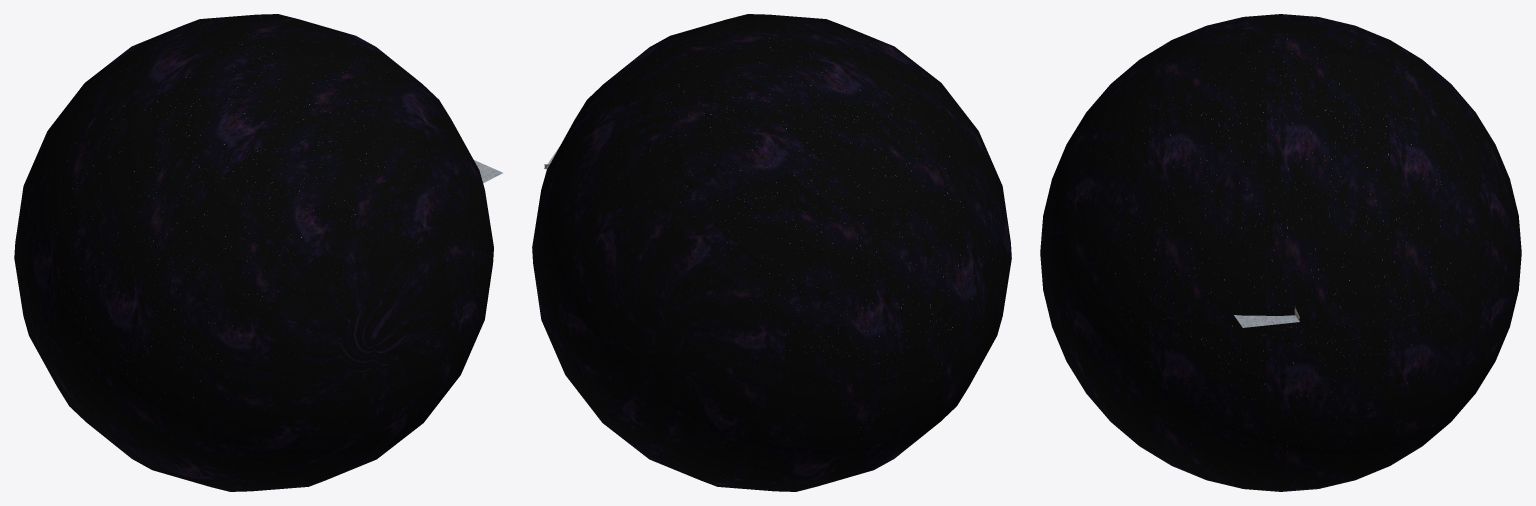
File: thm_newbie_hall_r2_mesh_r2.fbx
3 renders of one model, left to right at view 1: azimuth 30°, elevation 25°; view 2: azimuth 150°, elevation 25°; view 3: azimuth 270°, elevation 25°, orthographic.
Parts seen in each view (by area): view 1: mesh_node; view 2: mesh_node; view 3: mesh_node.
Boxes of the visible parts, x1=… form: mesh_node: x1=14, y1=14, x2=502, y2=491; mesh_node: x1=532, y1=14, x2=1011, y2=491; mesh_node: x1=1040, y1=14, x2=1521, y2=491.
Bounding box in the file's own units: 205523 × 195000 × 195000.
